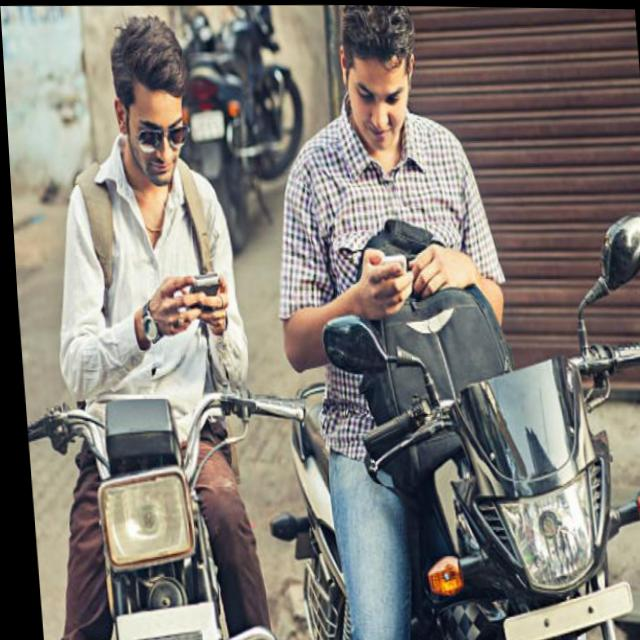USING_MOBILE: (104, 11, 245, 384), (282, 3, 435, 311)
